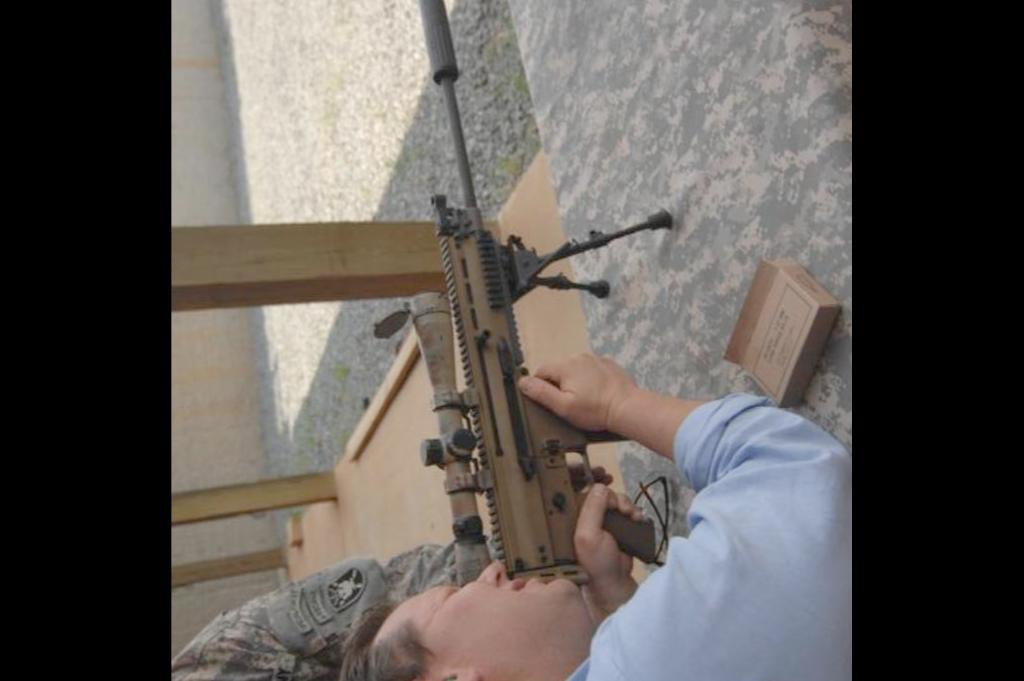gun: (399, 0, 671, 588)
